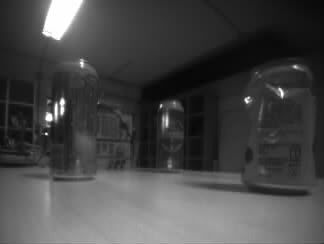Tin can: (244, 60, 314, 194), (51, 57, 97, 183), (157, 100, 184, 173)
